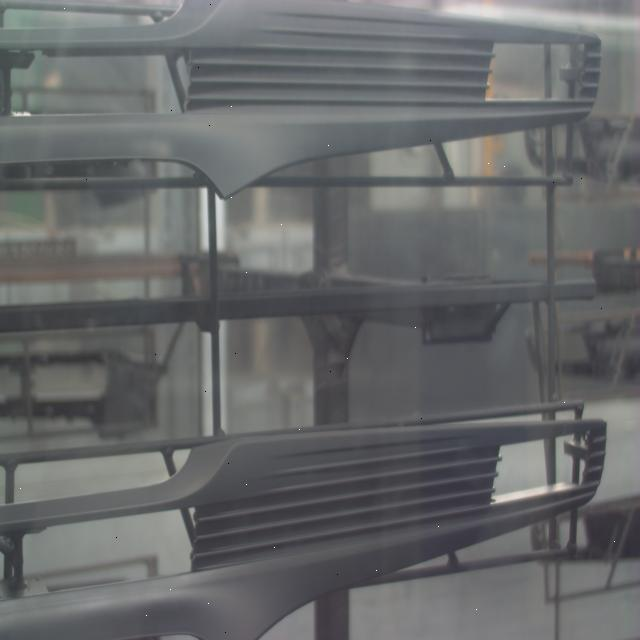Primered: (0, 414, 609, 640), (2, 0, 605, 193)
